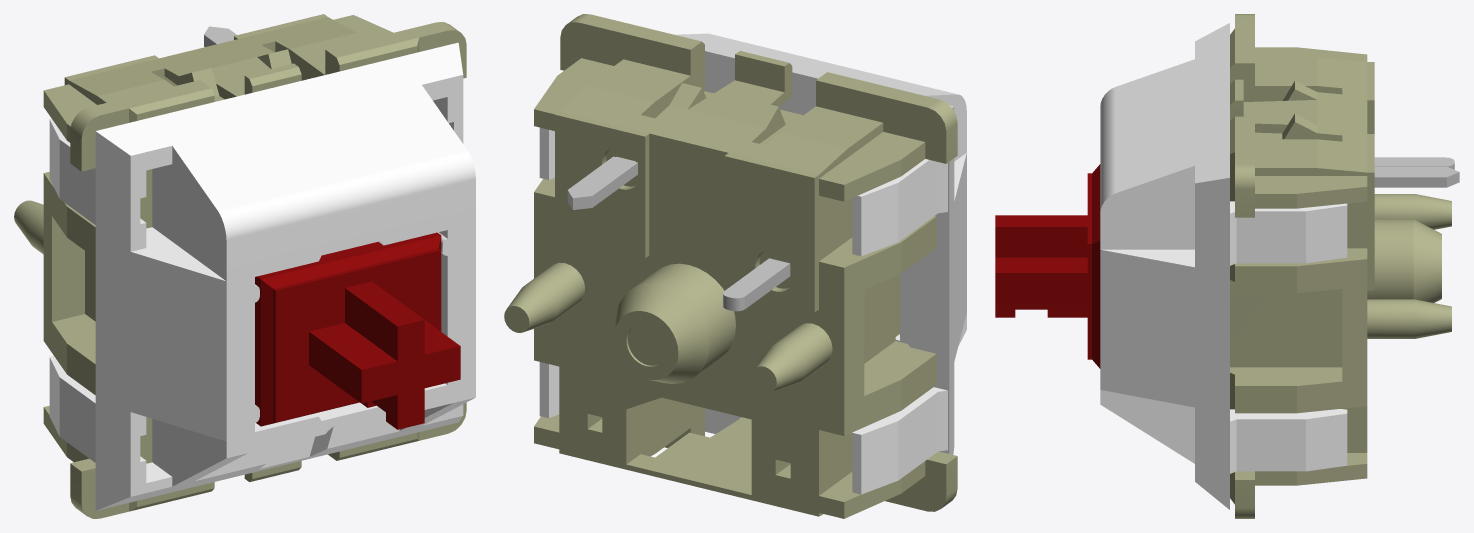
Rendered from cherry_mx.obj.
3 renders of one model, left to right at view 1: azimuth 30°, elevation 25°; view 2: azimuth 150°, elevation 25°; view 3: azimuth 270°, elevation 25°, orthographic. The views are drawn at different scales.
Parts seen in each view (by area): view 1: Mid_Top_PCB_LED, Mid_Bottom_PCB_LED, Mid_Switch_PCB_LED; view 2: Mid_Bottom_PCB_LED, Mid_Top_PCB_LED, Mid_Wire_PCB_LED; view 3: Mid_Top_PCB_LED, Mid_Bottom_PCB_LED, Mid_Switch_PCB_LED, Mid_Wire_PCB_LED.
Boxes of the visible parts, x1,y1,x2,y2 form: Mid_Top_PCB_LED: (49, 42, 475, 510); Mid_Bottom_PCB_LED: (14, 14, 466, 518); Mid_Switch_PCB_LED: (255, 232, 460, 429); Mid_Bottom_PCB_LED: (504, 14, 957, 518); Mid_Top_PCB_LED: (539, 33, 966, 494); Mid_Wire_PCB_LED: (567, 156, 790, 311); Mid_Top_PCB_LED: (1100, 23, 1347, 509); Mid_Bottom_PCB_LED: (1230, 14, 1451, 518); Mid_Switch_PCB_LED: (995, 164, 1100, 368); Mid_Wire_PCB_LED: (1374, 157, 1459, 187).
Bounding box in the file's own units: 15.6 × 15.6 × 18.6.
